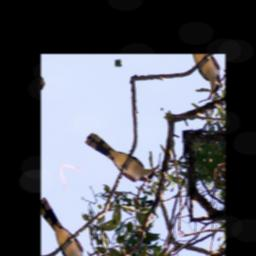Cuckoo: (81, 109, 161, 200)
